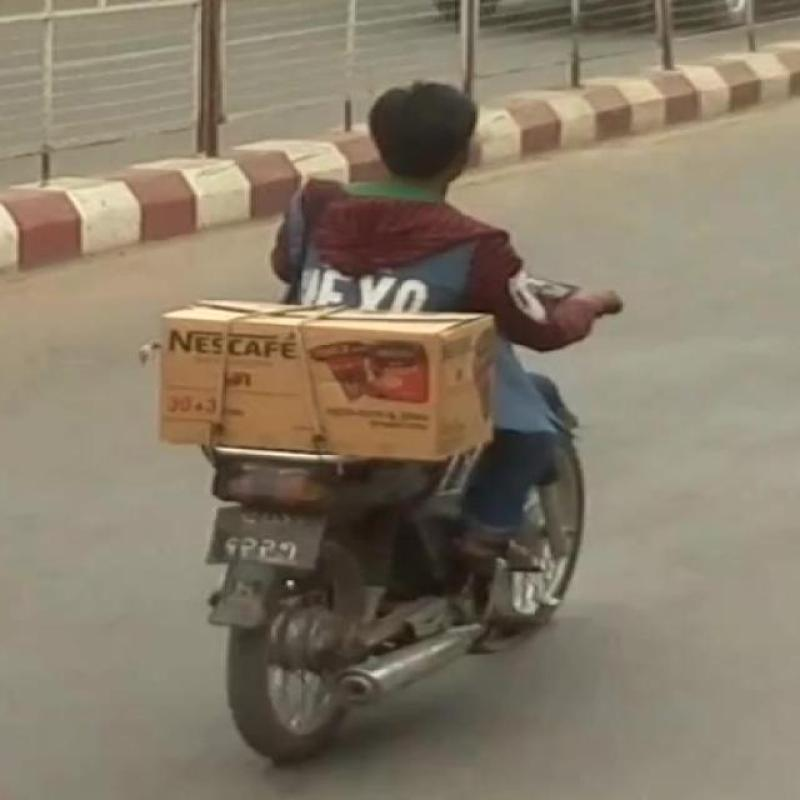nohelmet: (330, 96, 525, 196)
